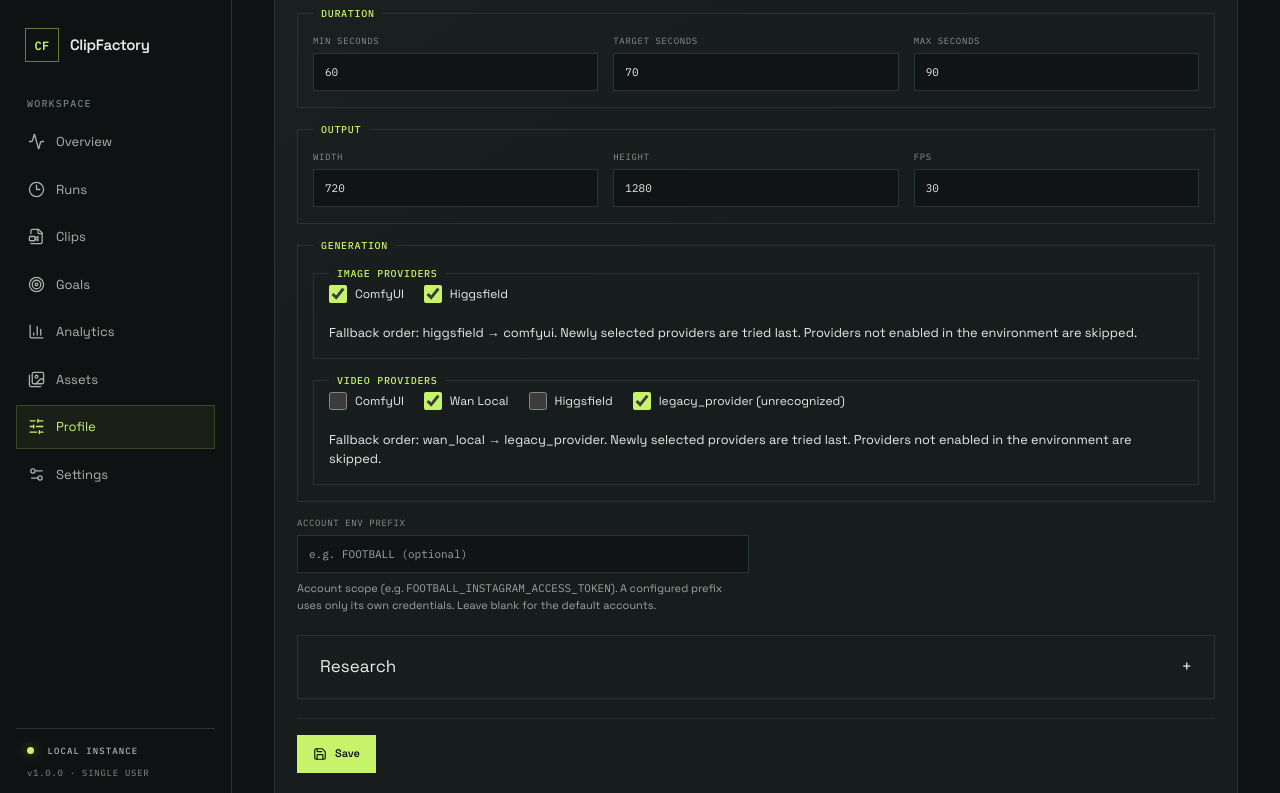
CF-REQ-607 CF-REQ-208 saves generation-provider checkboxes without losing fallback order or empty lists
(page scrolled)
Check: the checkbox labelled "Higgsfield" below "Image Providers" is checked, box top-left (424, 285), bottom-right (442, 303)
Check: the checkbox labelled "Wan Local" is checked, box top-left (424, 392), bottom-right (442, 410)
Click the checkbox labelled "ComfyUI" in the row of "Wan Local": (338, 401) top-left (329, 392), bottom-right (347, 410)
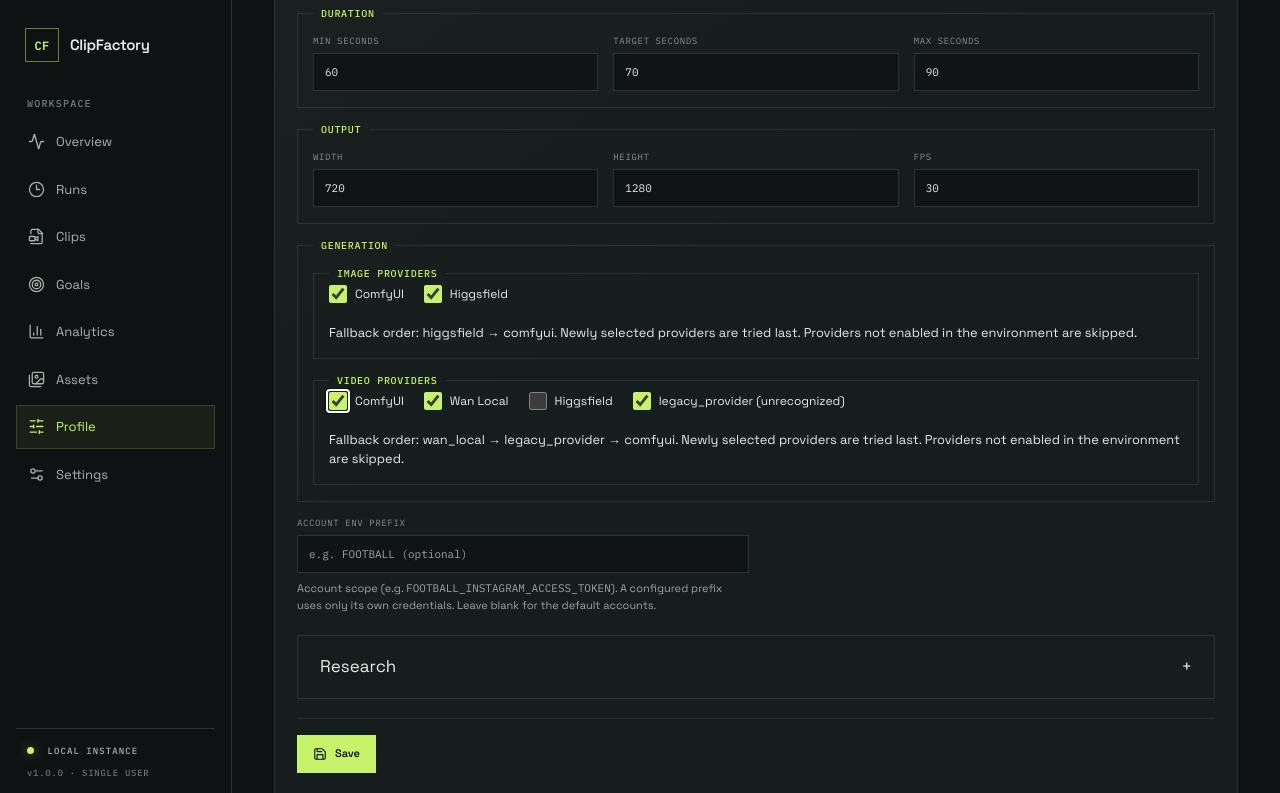
Click the checkbox labelled "legacy_provider (unrecognized)": (642, 401) top-left (633, 392), bottom-right (651, 410)
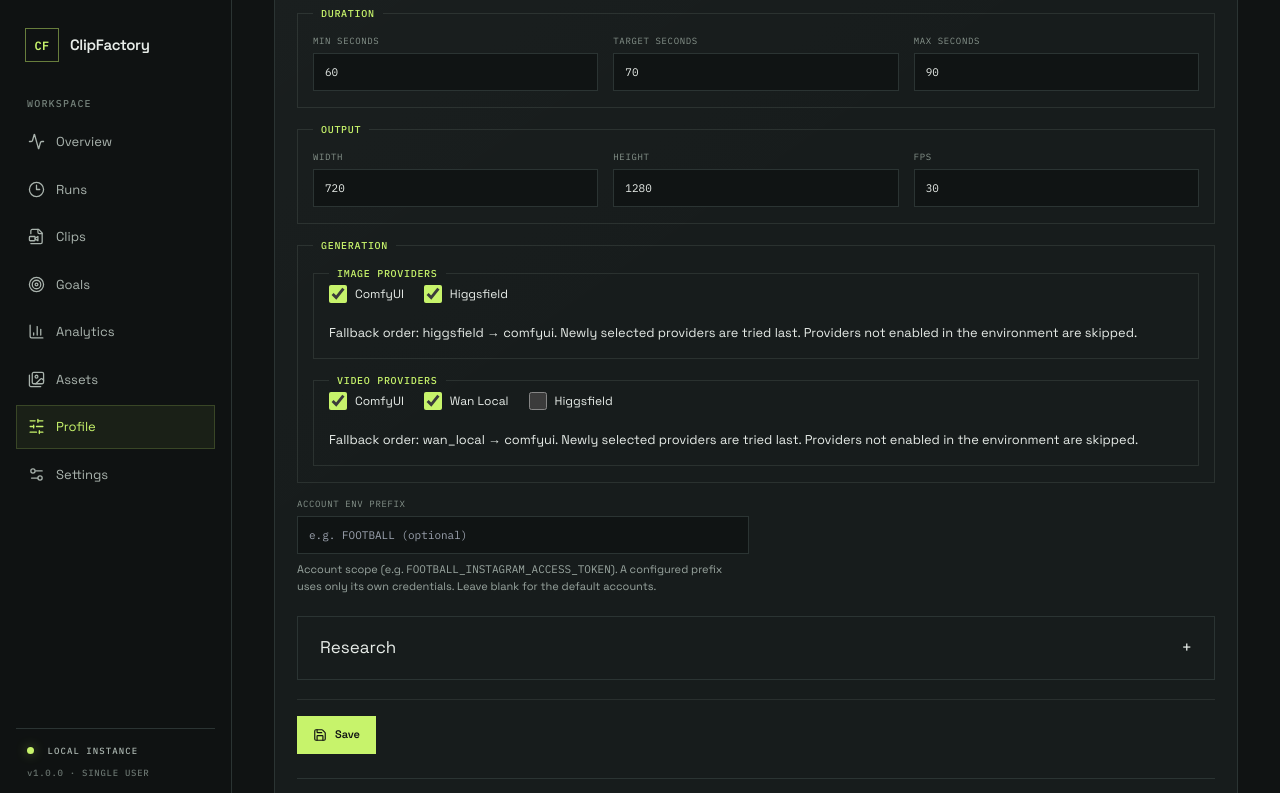
Click the checkbox labelled "Higgsfield" below "Image Providers": (433, 294) top-left (424, 285), bottom-right (442, 303)
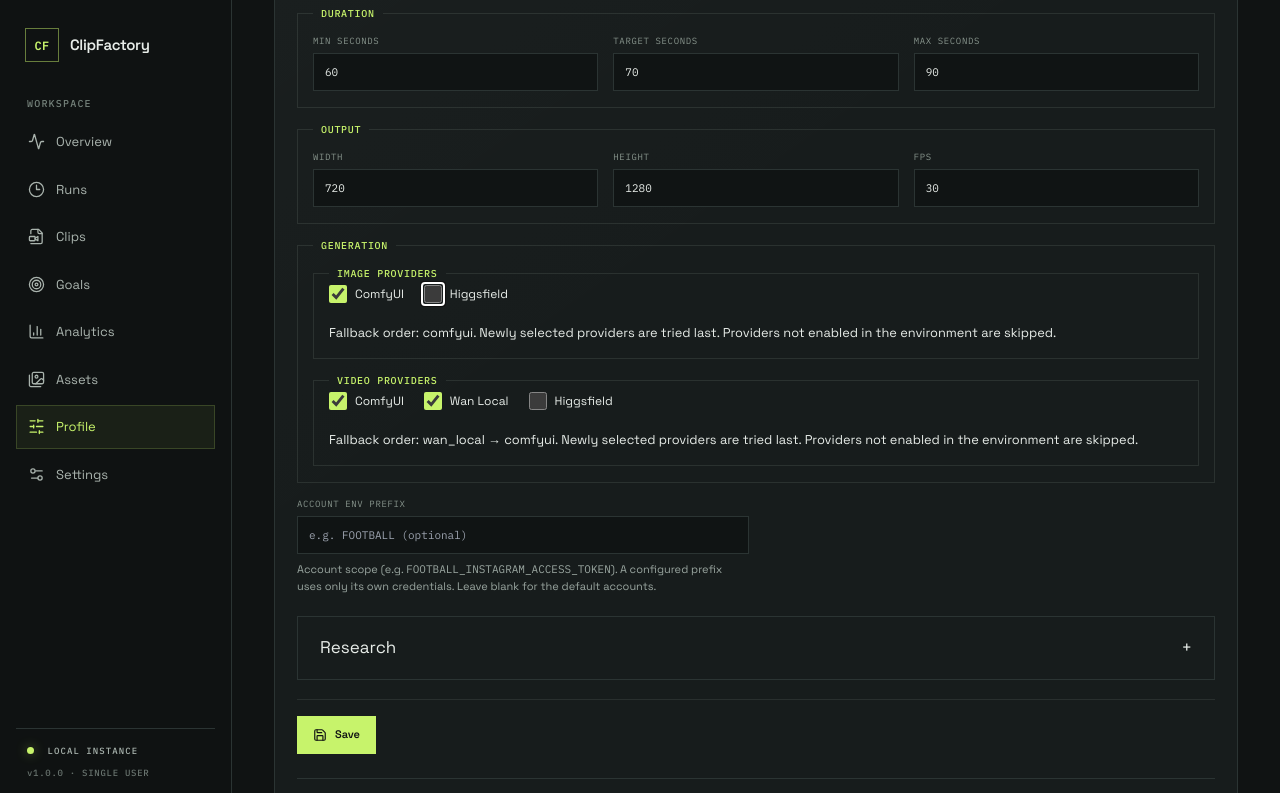
Click the checkbox labelled "ComfyUI" below "Image Providers": (338, 294) top-left (329, 285), bottom-right (347, 303)
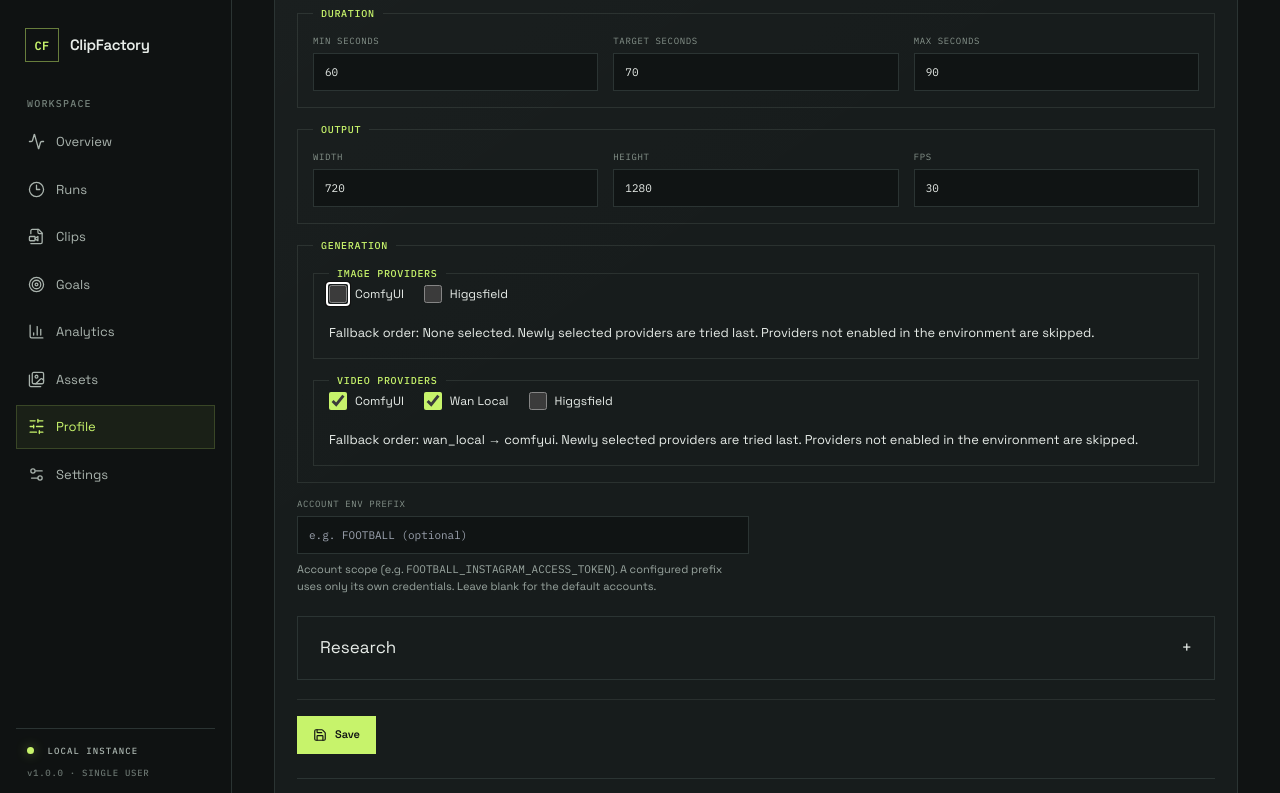
Click the button "Save": (336, 734) top-left (297, 716), bottom-right (376, 754)
(page scrolled)
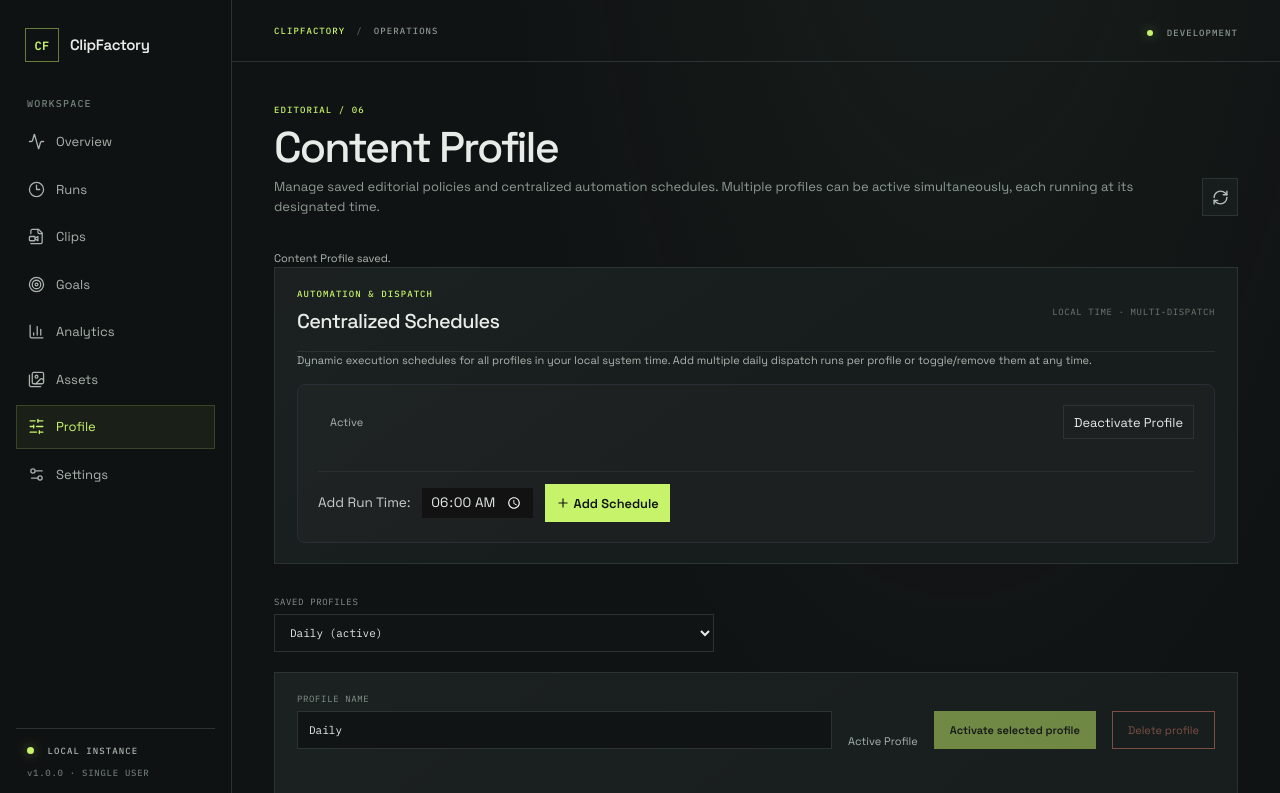
Check: the text "Content Profile saved." is shown, box top-left (274, 251), bottom-right (391, 265)
